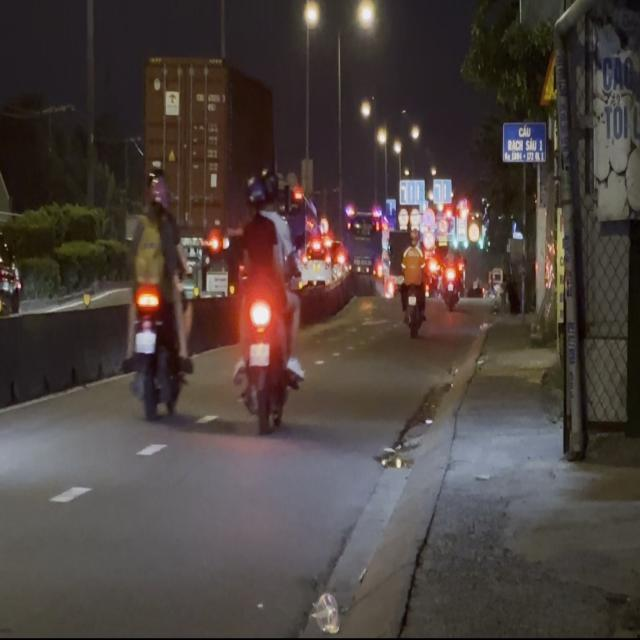helmet: (146, 174, 172, 222), (243, 174, 266, 212), (262, 170, 283, 209)
licenseplate: (230, 163, 314, 438), (125, 152, 193, 424)
nohelmet: (248, 341, 270, 366)
